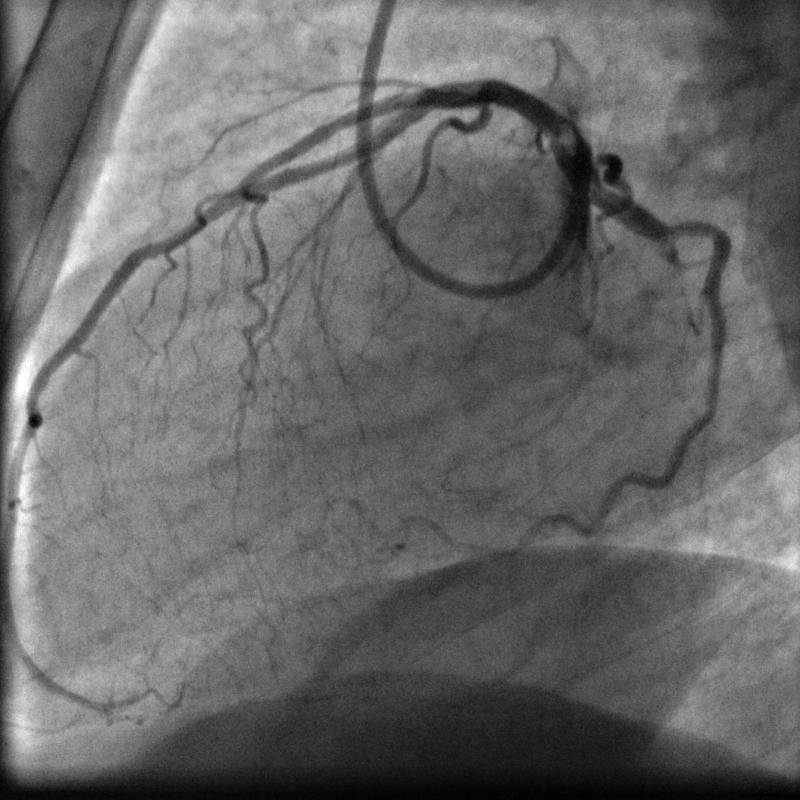Stenosis: (456, 70, 498, 123)
